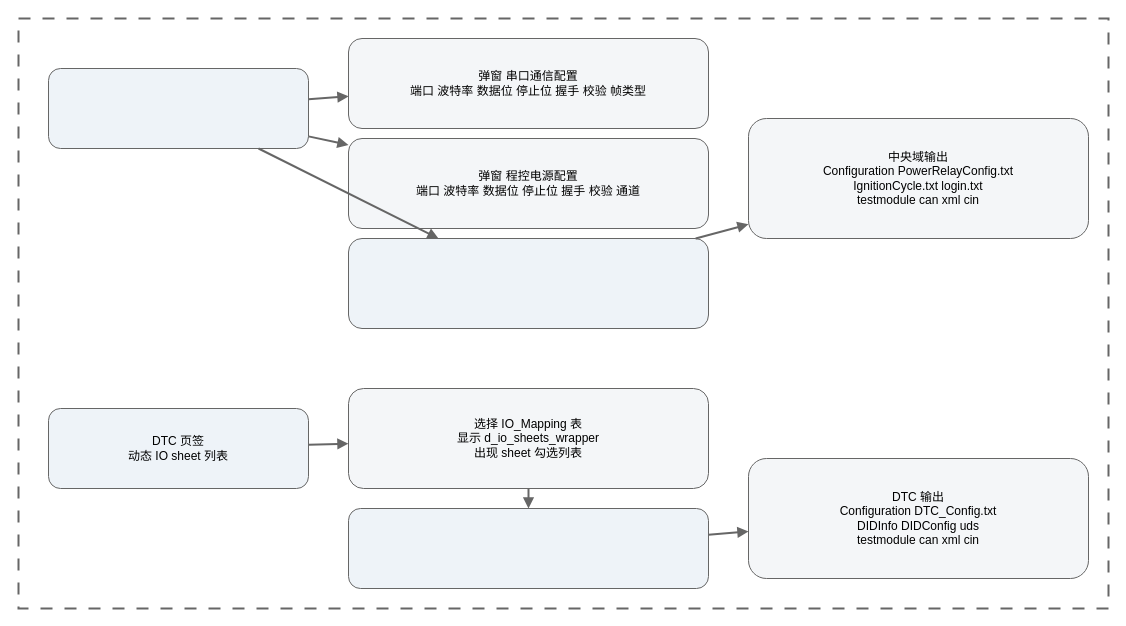
Some shapes in this 1126 by 626 pixel diagram are drawn without their labels. Here are the shapes that lost their labels. From the top down, the box of each, then its label:
(48, 68, 308, 148): 中央域页签 硬件弹窗与矩阵文件
(348, 238, 708, 328): 弹窗 继电器 IG PW 点火循环 账号密码 账号密码生成 login.txt
(348, 508, 708, 588): 勾选 sheet 限制 IO 映射参与范围
